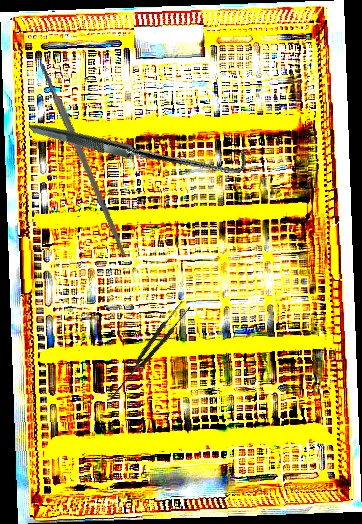Hook Surgical: (27, 30, 253, 258)
Scalpel Handle: (38, 62, 130, 259)
Tissue Forceps: (107, 299, 193, 400)
